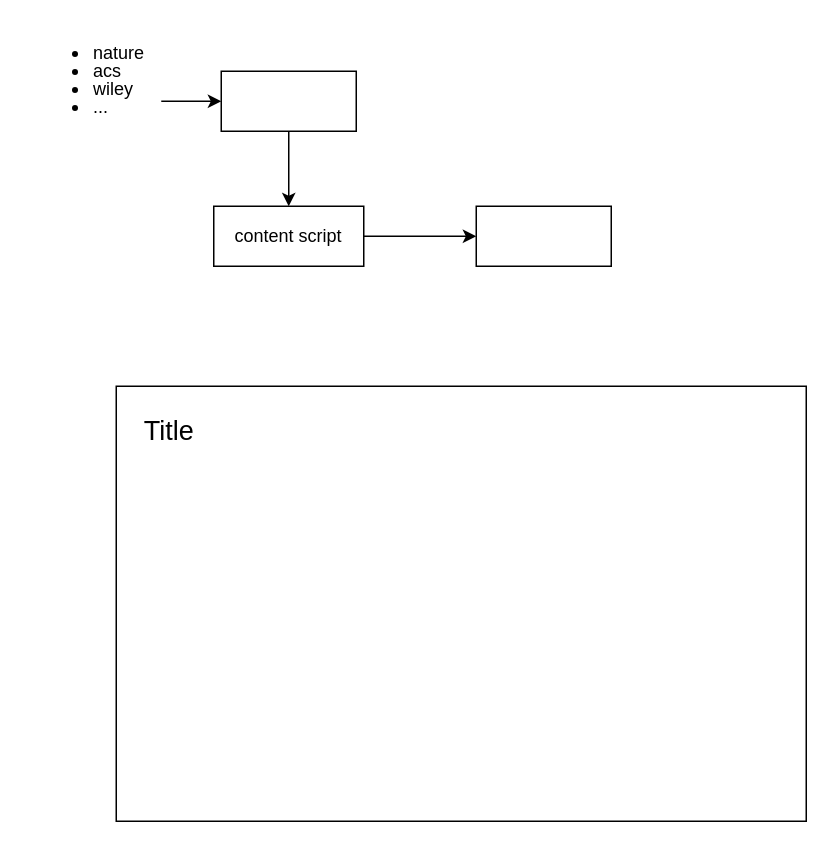
Image size: 833x848. Some labels were removed from this diagram. The centre of each missing label's shape, as x and y in pixels:
"Parsers" belongs at (288,100).
"pop up" belongs at (543,235).
